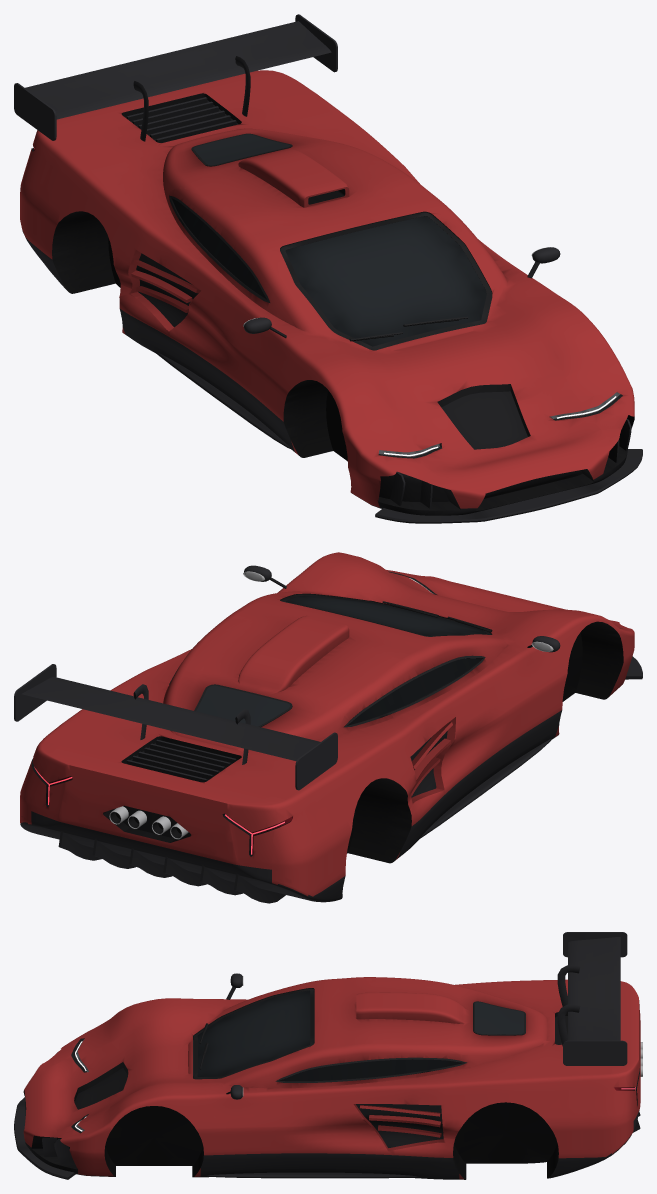
The model's file is razor.m.glb.
3 views of the same model, one above another, from view 1: azimuth 30°, elevation 25°; view 2: azimuth 150°, elevation 25°; view 3: azimuth 270°, elevation 25° (orthographic). The views are drawn at different scales.
Visible parts, largest first — view 1: paint_lodm, carbon_lodm, window_lodm, trim_lodm, grille_lodm, glass_lodm; view 2: paint_lodm, carbon_lodm, trim_lodm, window_lodm, glass_lodm, grille_lodm, chrome_lodm; view 3: paint_lodm, carbon_lodm, trim_lodm, window_lodm, grille_lodm, glass_lodm.
Part boxes in pixels (x1,y1,x2,y2): paint_lodm: (20,70,634,508); carbon_lodm: (14,14,642,523); window_lodm: (172,198,486,346); trim_lodm: (31,93,634,510); grille_lodm: (125,100,582,502); glass_lodm: (193,134,289,165); paint_lodm: (20,552,634,896); carbon_lodm: (14,565,642,903); trim_lodm: (31,571,623,863); window_lodm: (286,595,485,724); glass_lodm: (196,685,289,726); grille_lodm: (109,731,447,838); chrome_lodm: (109,571,553,839); paint_lodm: (23,977,640,1179); carbon_lodm: (14,932,640,1179); trim_lodm: (23,988,639,1179); window_lodm: (197,990,462,1080); grille_lodm: (57,1016,567,1147); glass_lodm: (475,1002,523,1034).
Size of what is drawn, in the model's own units: 2.22 by 1.22 by 4.86.
